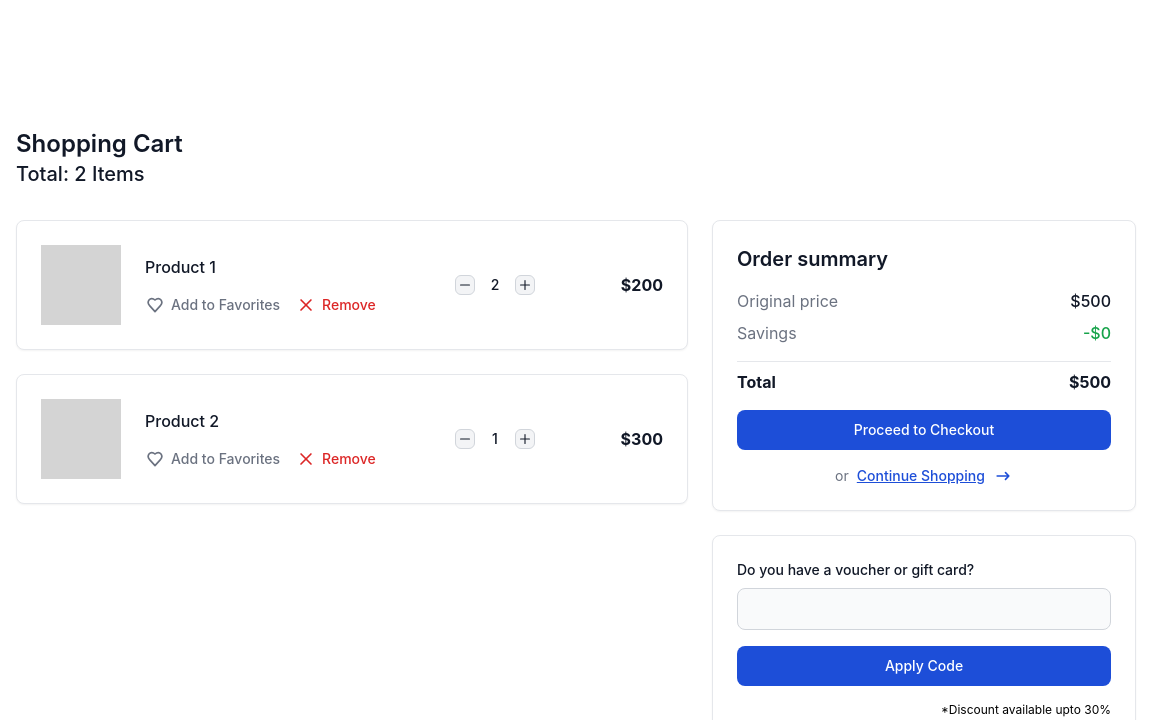
Test: Cart Page › Cart Operations › removes cart item
The image size is (1152, 720).
Click the button "Remove" below "Product 1": x=336, y=305 [296,295,376,315]
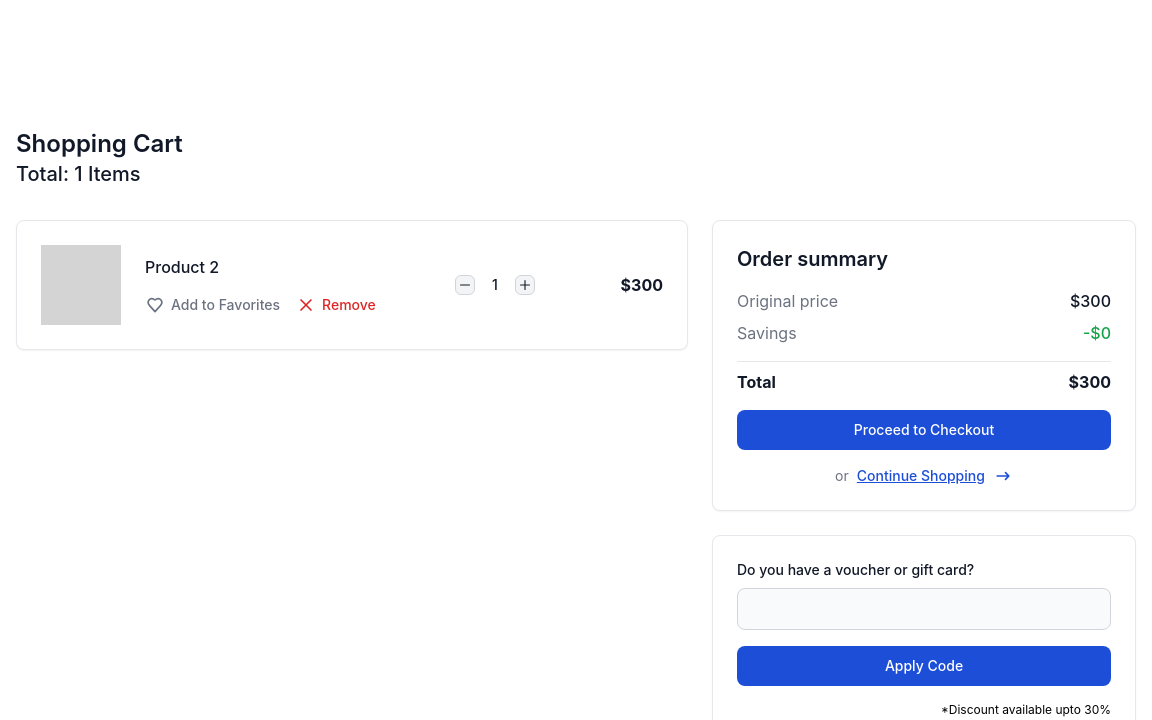
Now the link "Product 1" is gone
